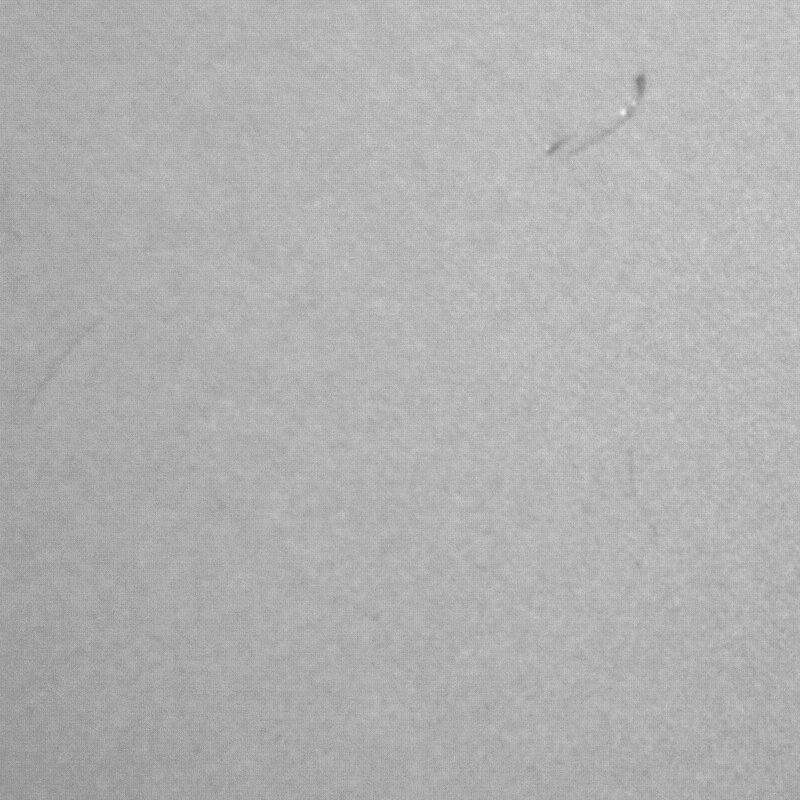defect: (540, 75, 652, 167), (24, 320, 103, 407)
